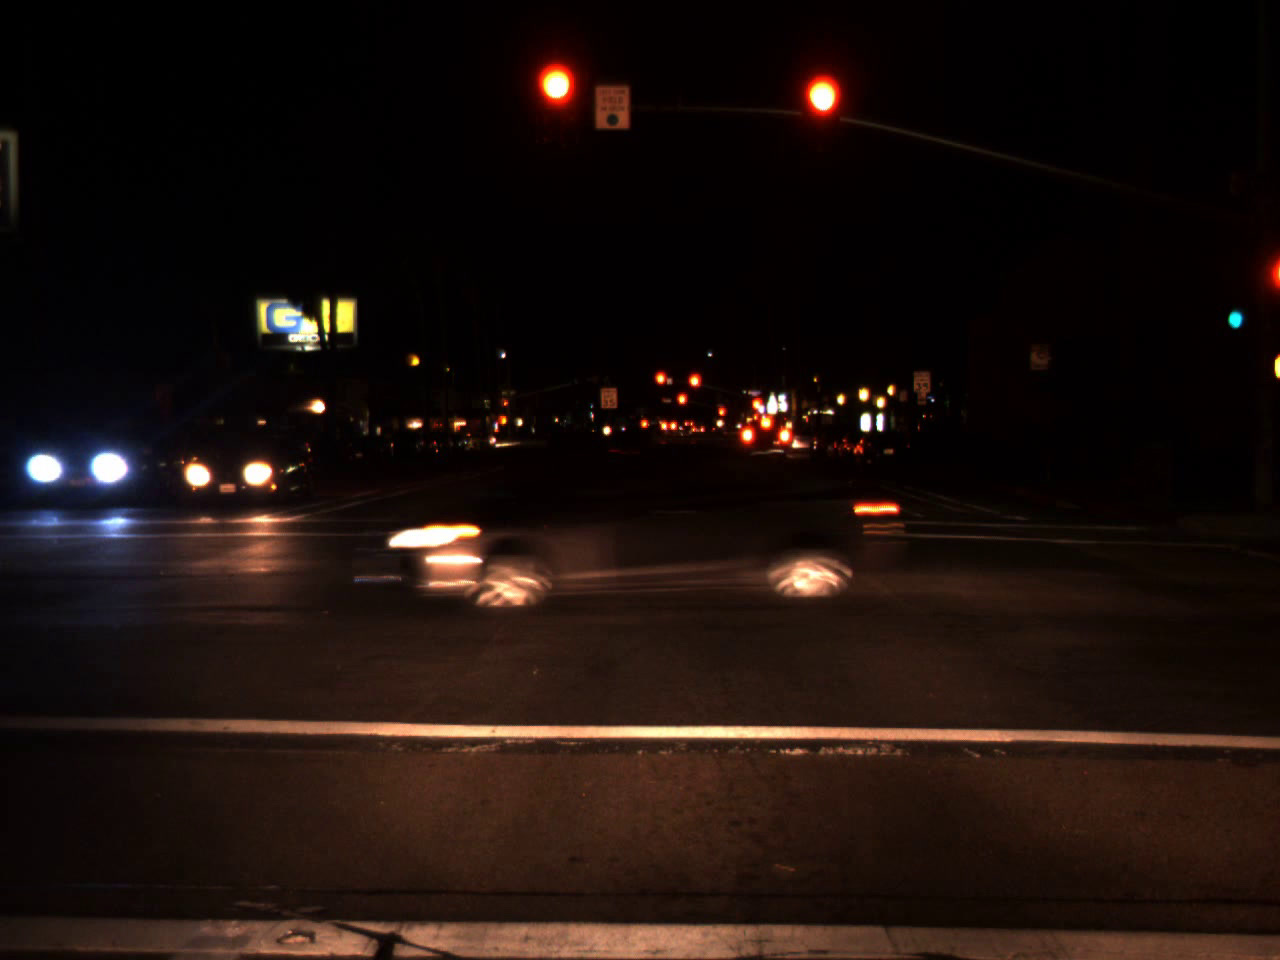stop: (536, 65, 577, 143), (802, 77, 841, 152), (686, 371, 702, 403), (653, 370, 668, 399), (676, 392, 688, 416), (749, 396, 764, 414), (717, 406, 727, 427), (502, 401, 508, 411)
